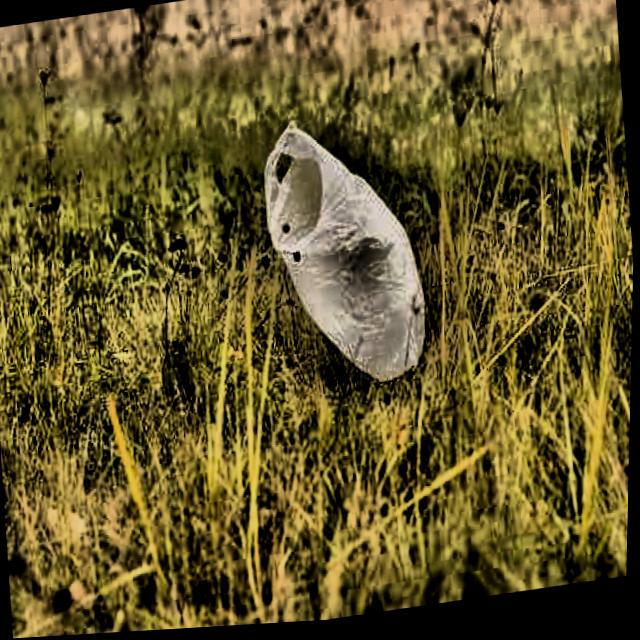Plastic: (244, 95, 455, 413)
